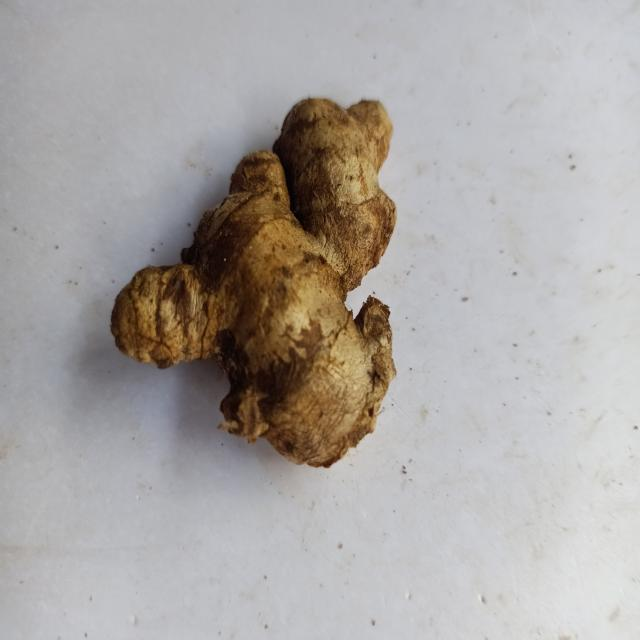Ginger: (110, 98, 396, 467)
